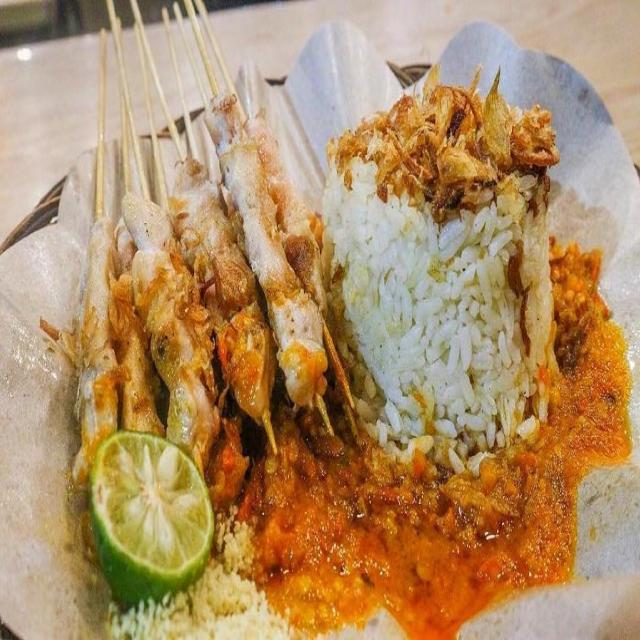Sate: (75, 1, 351, 448)
